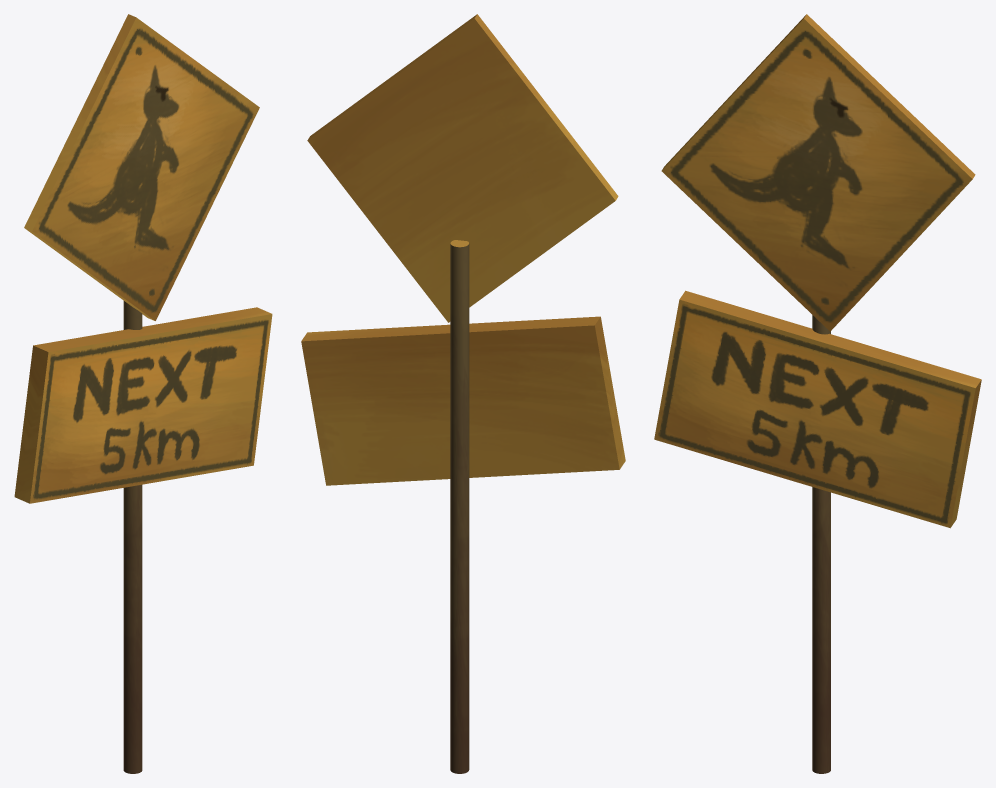
Rendered from Sign.fbx.
The picture shows the model from 3 angles, left to right: view 1: azimuth 30°, elevation 25°; view 2: azimuth 150°, elevation 25°; view 3: azimuth 330°, elevation 25°; orthographic projection.
Visible parts, largest first — view 1: Sign; view 2: Sign; view 3: Sign.
Boxes of the visible parts, left/top/right/bottom form: Sign: left=14, top=14, right=272, bottom=773; Sign: left=301, top=14, right=625, bottom=773; Sign: left=654, top=14, right=981, bottom=773.
Bounding box in the file's own units: 0.6835 × 1.73 × 0.2109.
